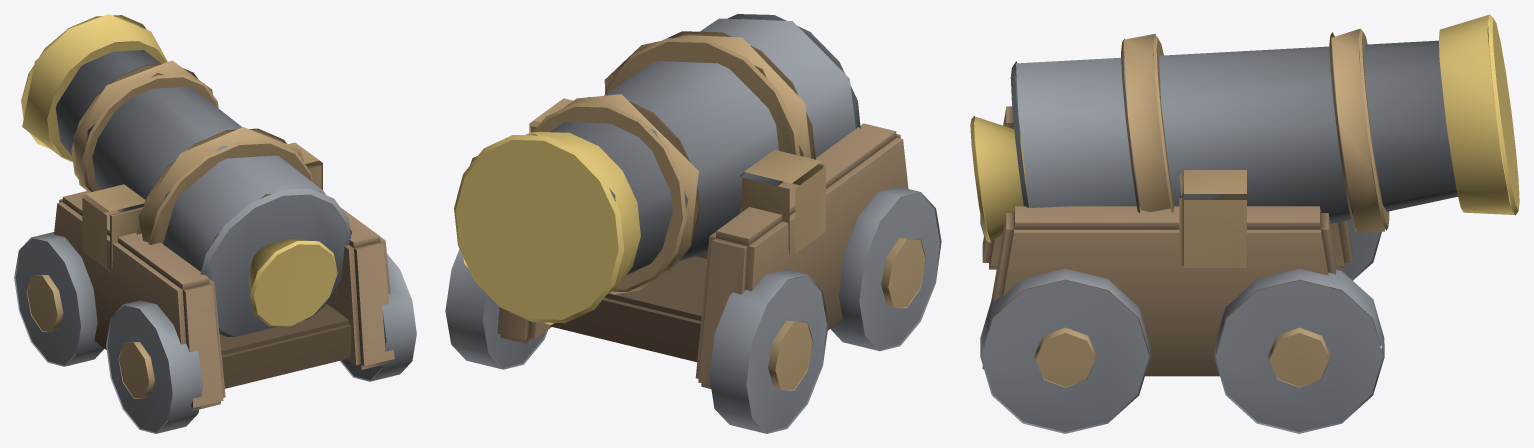
The model's file is ink_cannon_turret_lod1.glb.
3 views of the same model, side by side, from view 1: azimuth 30°, elevation 25°; view 2: azimuth 150°, elevation 25°; view 3: azimuth 270°, elevation 25° (orthographic). The views are drawn at different scales.
Visible parts, largest first — view 1: ink_cannon_turret.001; view 2: ink_cannon_turret.001; view 3: ink_cannon_turret.001.
Part boxes in pixels (left/top/right/bottom): ink_cannon_turret.001: left=14, top=14, right=416, bottom=433; ink_cannon_turret.001: left=445, top=14, right=941, bottom=433; ink_cannon_turret.001: left=970, top=14, right=1519, bottom=433.
Size of the model in its own units: 1.25 by 1.23 by 1.83.
